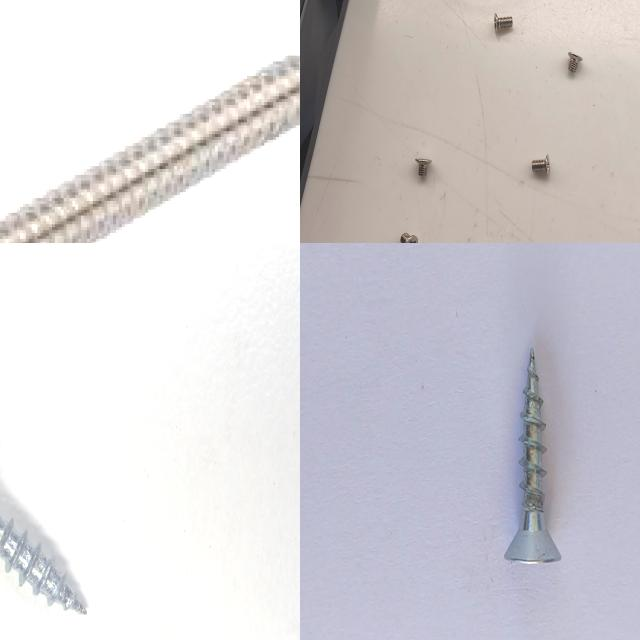Screw: (0, 57, 300, 243), (0, 440, 90, 614), (504, 347, 561, 563), (529, 152, 552, 178), (563, 49, 584, 77), (491, 12, 515, 35), (413, 155, 434, 180), (399, 228, 420, 243)
